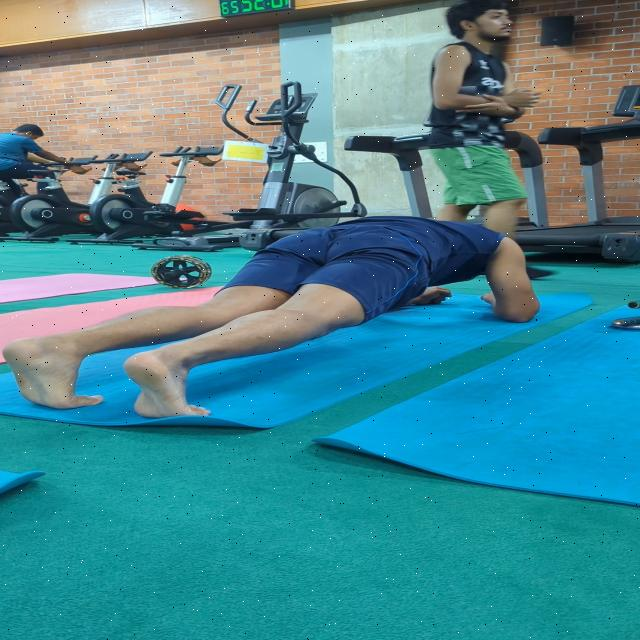Normal_Plunk: (0, 210, 544, 443)
